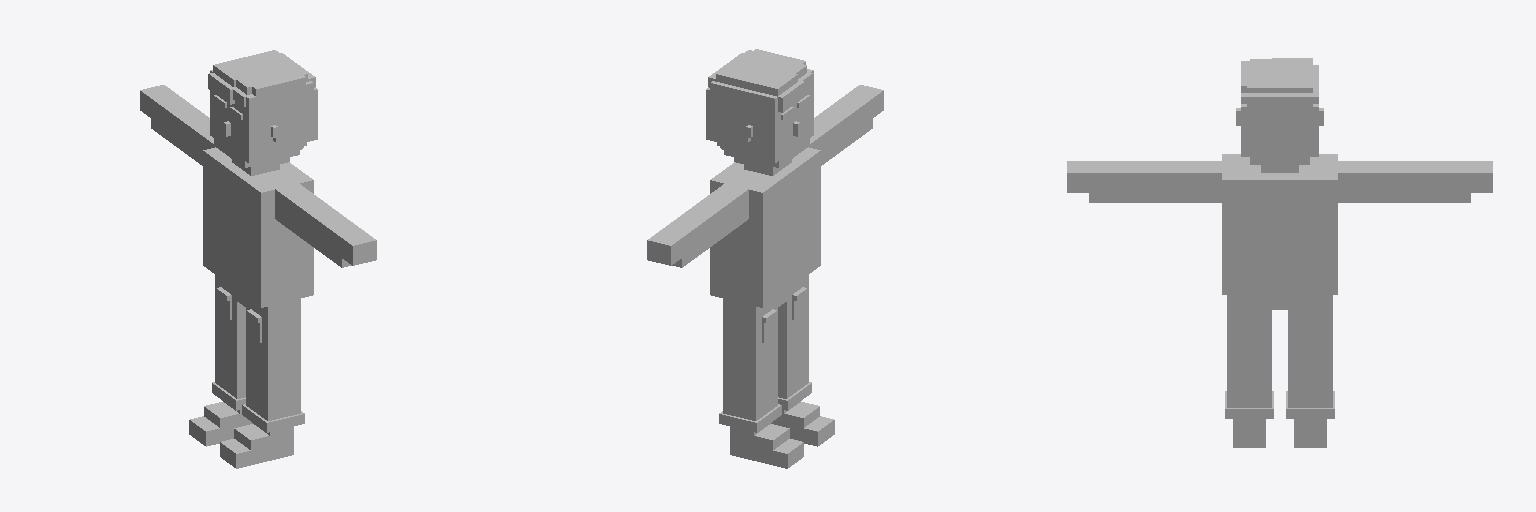
Rendered from male chars-3.obj.
3 renders of one model, left to right at view 1: azimuth 30°, elevation 25°; view 2: azimuth 150°, elevation 25°; view 3: azimuth 270°, elevation 25°, orthographic.
Visible parts, largest first — view 1: object 1; view 2: object 1; view 3: object 1.
Part boxes in pixels (bbox=[...]): object 1: bbox=[140, 50, 376, 468]; object 1: bbox=[647, 49, 883, 468]; object 1: bbox=[1067, 58, 1492, 447].
Bounding box in the file's own units: 3.6 × 14.8 × 15.4.